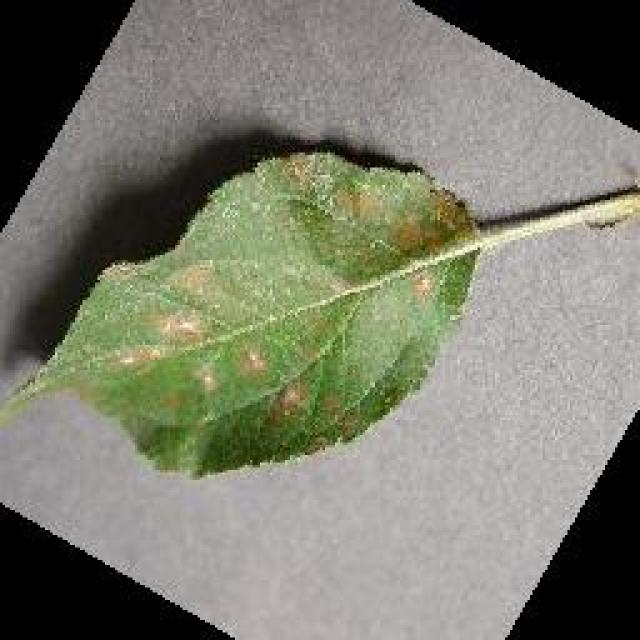apple cedar apple rust: (0, 144, 482, 477)
